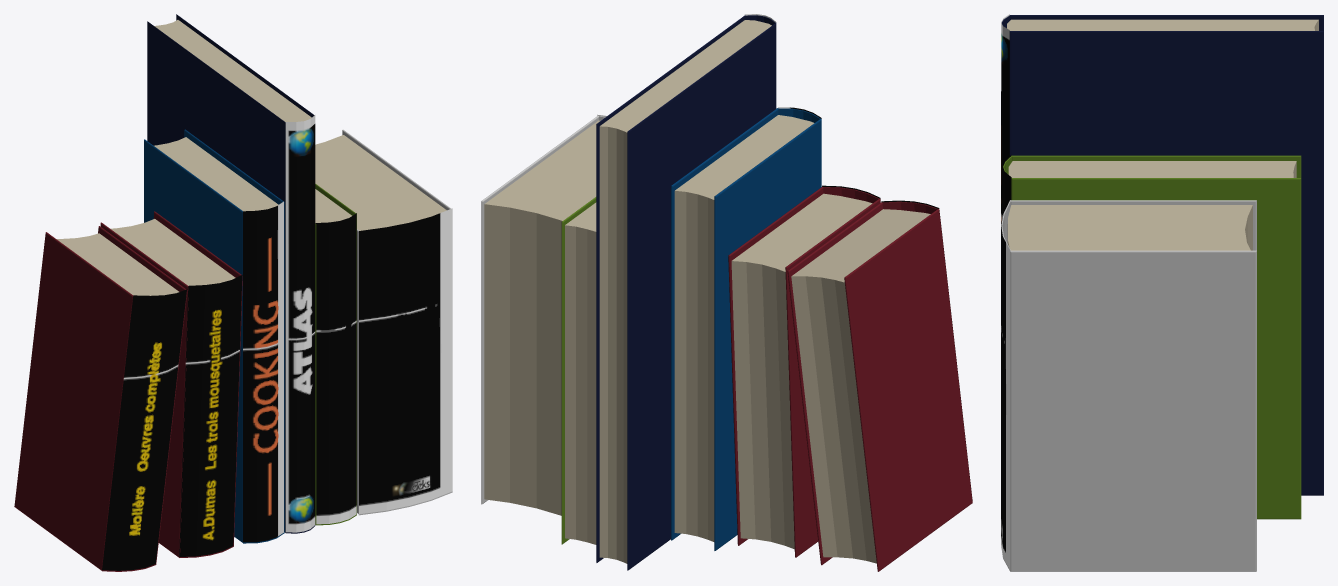
File: Cultural_books.glb
The picture shows the model from 3 angles, left to right: view 1: azimuth 30°, elevation 25°; view 2: azimuth 150°, elevation 25°; view 3: azimuth 270°, elevation 25°; orthographic projection. The views are drawn at different scales.
Visible parts, largest first — view 1: titles_tranche_4.001, face_avant_5, face_avant_2, face_avant_1, pages_4, face_avant, pages, pages_2, pages_1, pages_5, face_arriere_1, face_arriere_5 (+6 smaller); view 2: face_avant_5, face_avant_2, pages_4, pages, pages_5, pages_1, pages_2, face_avant_1, pages_3, face_avant, face_arriere_2, face_arriere_1 (+4 smaller); view 3: face_arriere_4, face_arriere_2, face_arriere_3, pages_4, pages_3, titles_tranche_4.001, pages_2, face_avant_3, face_avant_2, face_avant_4.
Boxes of the visible parts, bbox=[...] form: titles_tranche_4.001: bbox=[102, 115, 452, 570]; face_avant_5: bbox=[14, 232, 133, 570]; face_avant_2: bbox=[147, 21, 286, 532]; face_avant_1: bbox=[144, 139, 242, 542]; pages_4: bbox=[315, 135, 446, 230]; face_avant: bbox=[100, 222, 188, 557]; pages: bbox=[110, 219, 235, 285]; pages_2: bbox=[154, 20, 311, 121]; pages_1: bbox=[154, 137, 278, 211]; pages_5: bbox=[56, 233, 178, 295]; face_arriere_1: bbox=[184, 129, 284, 533]; face_arriere_5: bbox=[98, 226, 187, 564]; face_avant_5: bbox=[844, 208, 972, 571]; face_avant_2: bbox=[627, 23, 776, 570]; pages_4: bbox=[484, 120, 600, 515]; pages: bbox=[731, 193, 872, 549]; pages_5: bbox=[791, 209, 930, 563]; pages_1: bbox=[674, 115, 814, 541]; pages_2: bbox=[599, 20, 771, 563]; face_avant_1: bbox=[714, 119, 821, 550]; pages_3: bbox=[565, 202, 596, 544]; face_avant: bbox=[785, 198, 880, 557]; face_arriere_2: bbox=[596, 15, 745, 562]; face_arriere_1: bbox=[671, 108, 778, 540]; face_arriere_4: bbox=[1010, 250, 1256, 571]; face_arriere_2: bbox=[1009, 31, 1323, 495]; face_arriere_3: bbox=[1011, 178, 1301, 519]; pages_4: bbox=[1007, 205, 1252, 250]; pages_3: bbox=[1008, 161, 1296, 177]; titles_tranche_4.001: bbox=[1001, 14, 1011, 570]; pages_2: bbox=[1007, 19, 1318, 30]; face_avant_3: bbox=[1011, 155, 1301, 177]; face_avant_2: bbox=[1010, 15, 1323, 30]; face_avant_4: bbox=[1010, 200, 1256, 250].
Size of the model in its own units: 23.99 by 26.95 by 16.88.
8 materials, 1 textured.
